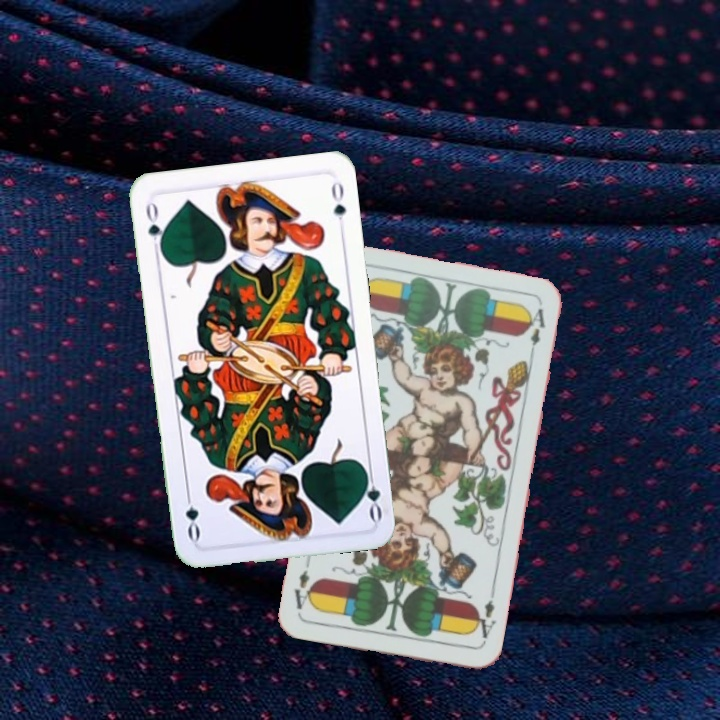EA: (469, 596, 498, 646)
GO: (358, 463, 385, 523), (142, 198, 167, 256)
